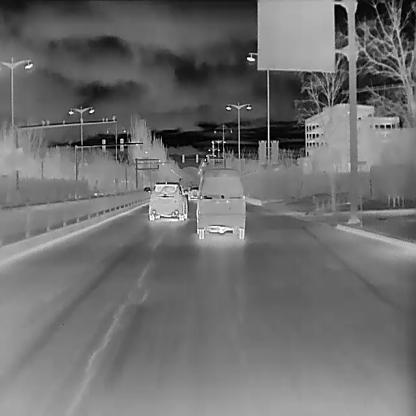car: (191, 166, 245, 239), (147, 180, 188, 220), (187, 185, 200, 200), (142, 185, 151, 193)
light: (98, 137, 107, 156), (118, 136, 127, 152)
